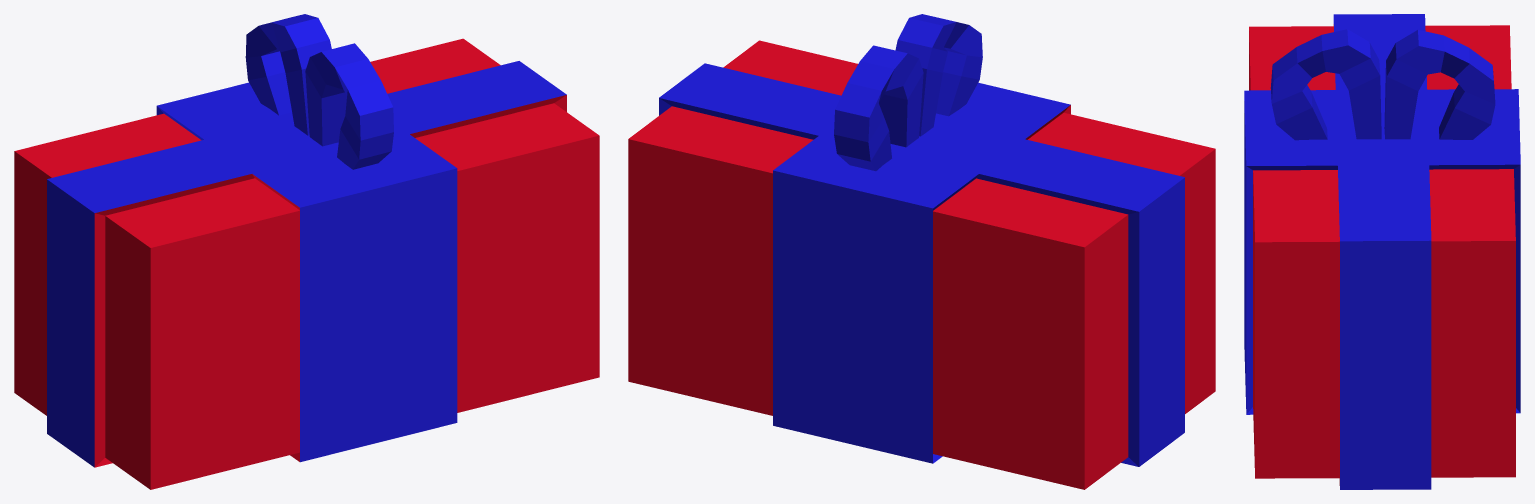
Rendered from darcek4.fbx.
The picture shows the model from 3 angles, left to right: view 1: azimuth 30°, elevation 25°; view 2: azimuth 150°, elevation 25°; view 3: azimuth 270°, elevation 25°; orthographic projection. The views are drawn at different scales.
Parts seen in each view (by area): view 1: darcek4; view 2: darcek4; view 3: darcek4.
Part boxes in pixels (<box>): darcek4: <box>14,14,599,489</box>; darcek4: <box>628,14,1215,489</box>; darcek4: <box>1244,14,1520,489</box>.
Bounding box in the file's own units: 230 × 163 × 118.
